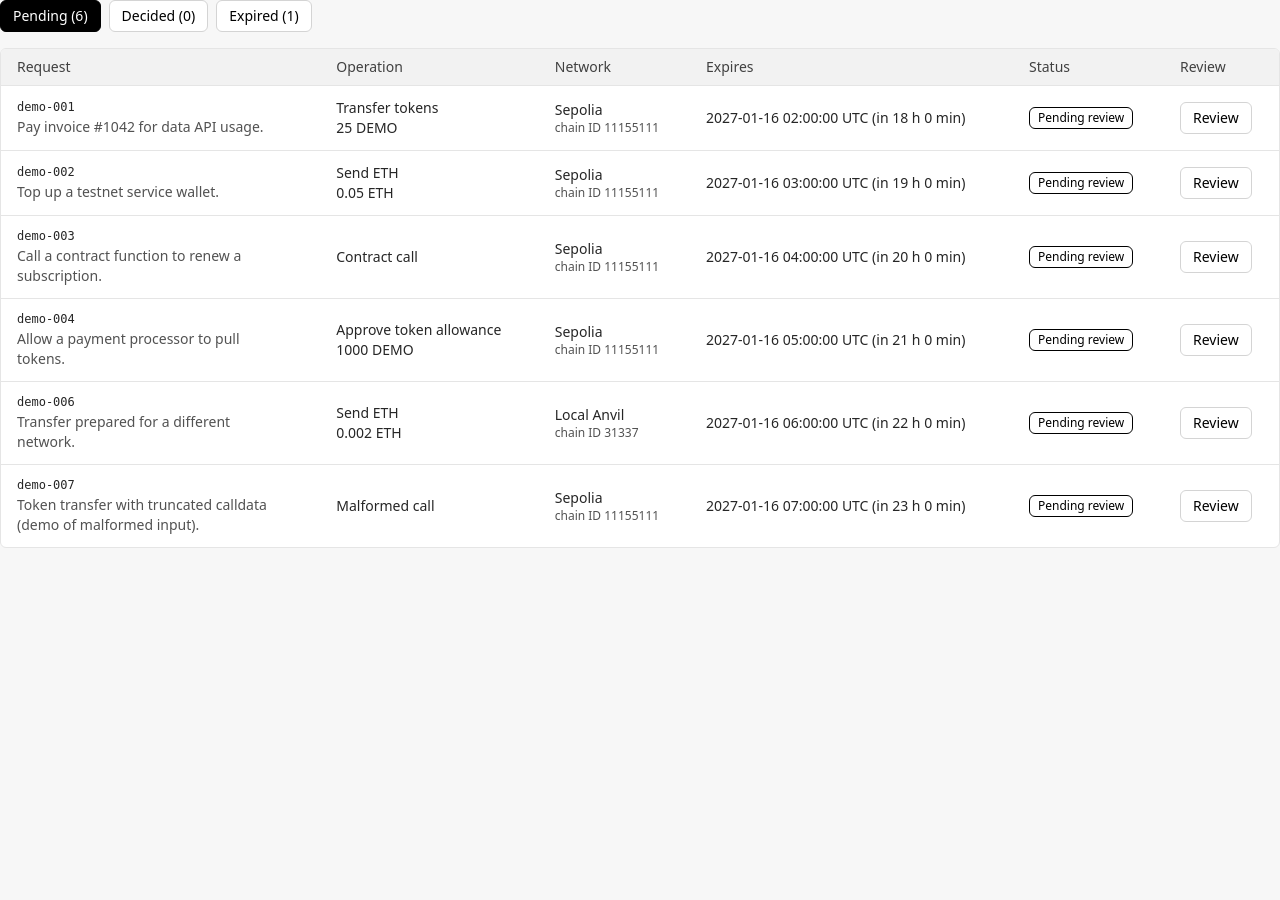
ApprovalWorkspace review › closes with the Close button without deciding
The image size is (1280, 900).
Click the button with aria-label "Review request demo-001": click(1216, 118) [1180,102,1252,134]
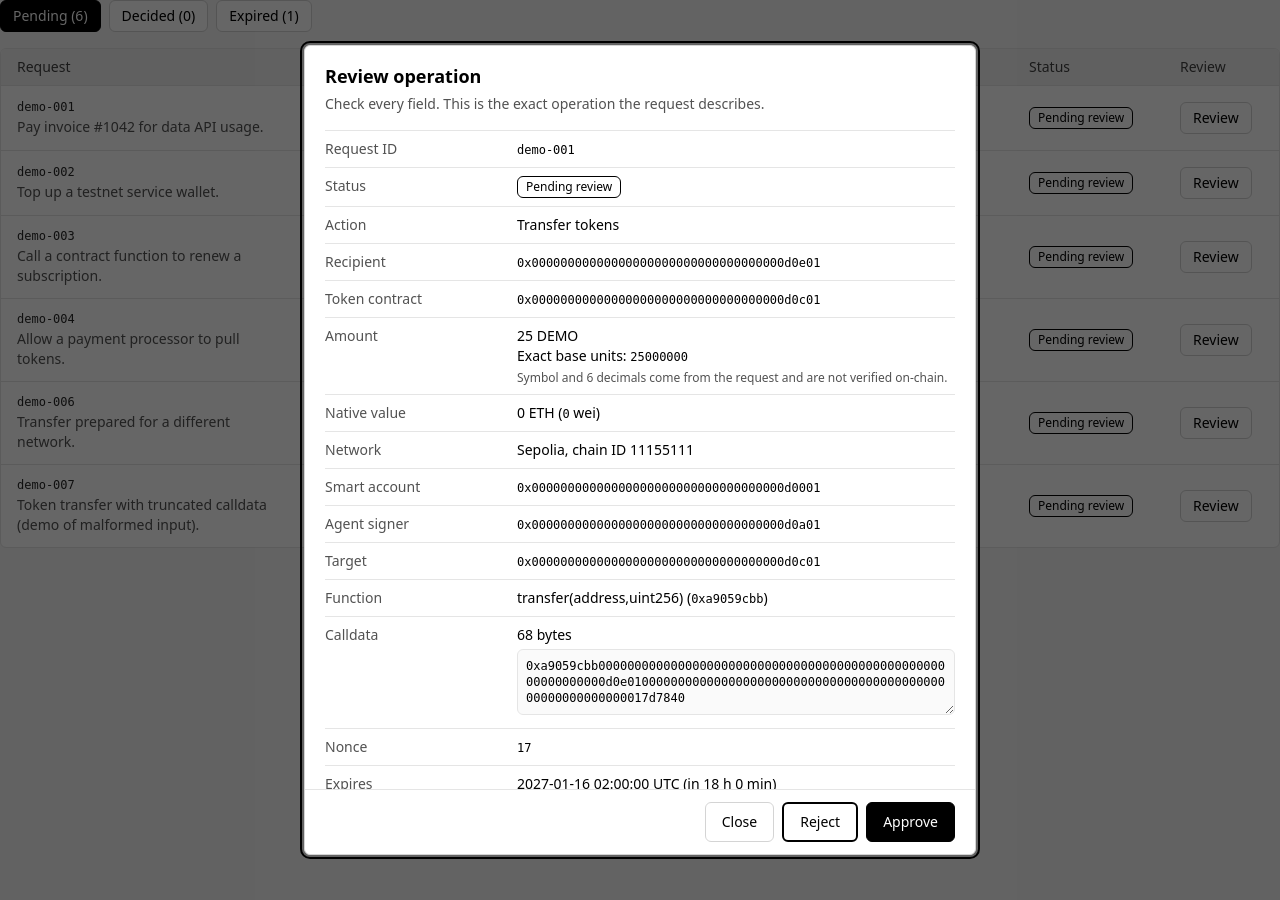
Click the button "Close": click(739, 822) [705,802,774,842]
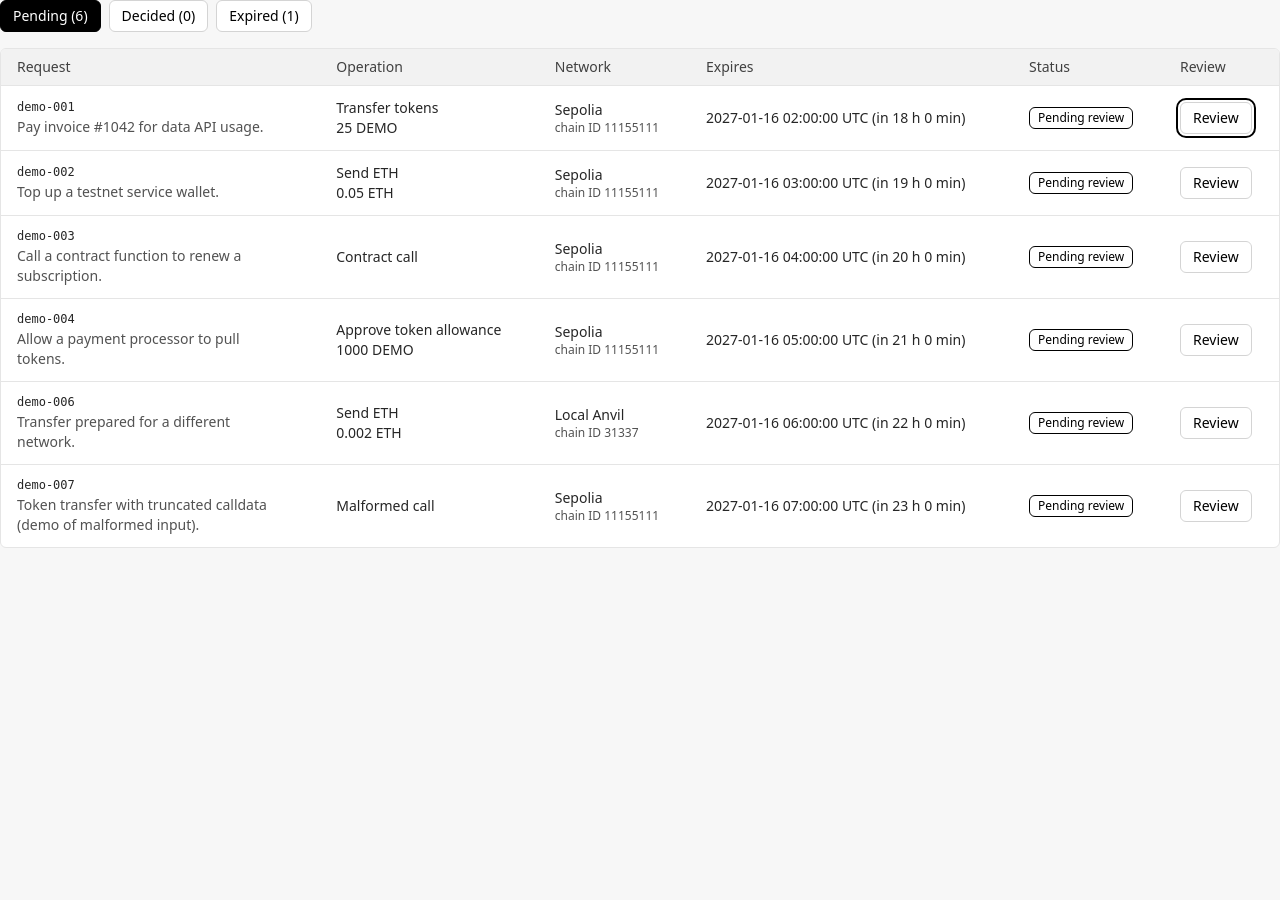
Check: the dialog is gone
